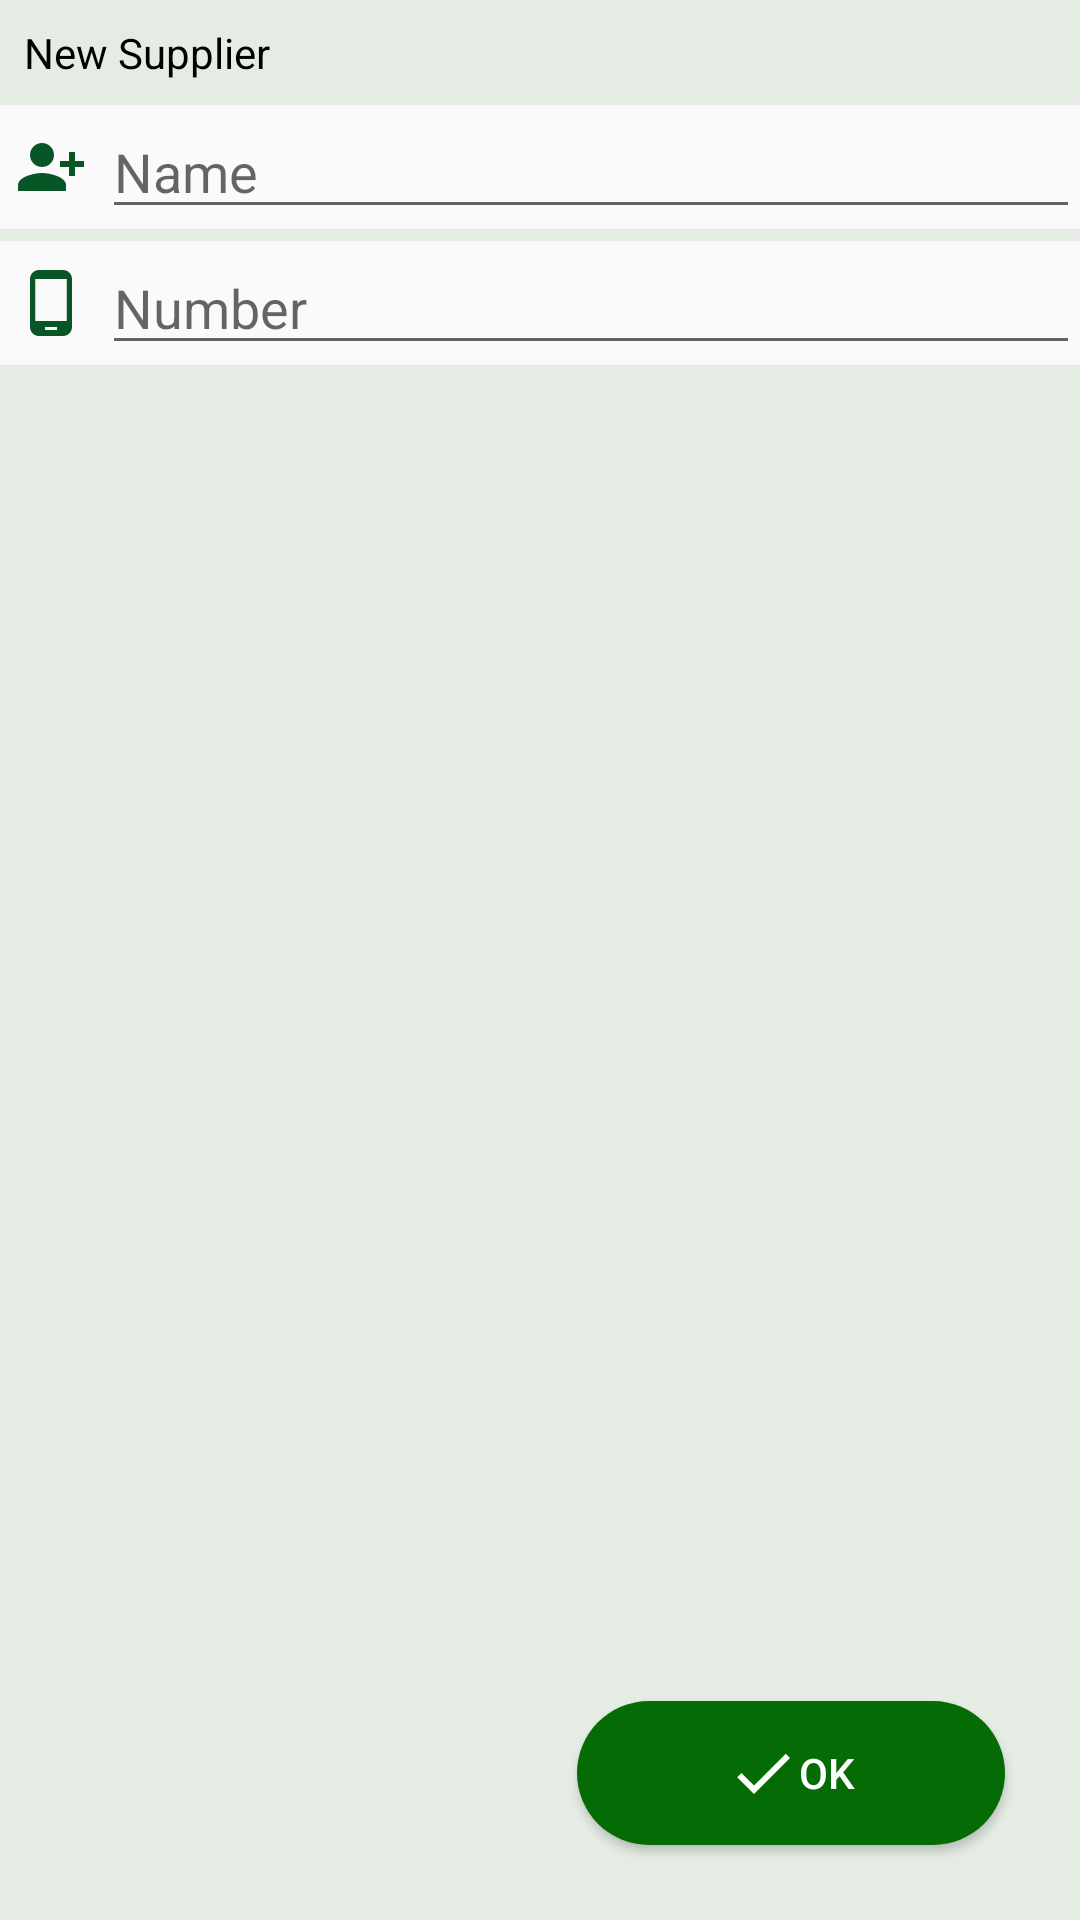

Screen size 1080 × 1920. Icon name, then its box in pixels as {"left": x1, "top": y1, "right": x2, "bottom": y2}:
person add: {"left": 18, "top": 143, "right": 84, "bottom": 191}
phone android: {"left": 30, "top": 270, "right": 72, "bottom": 336}
